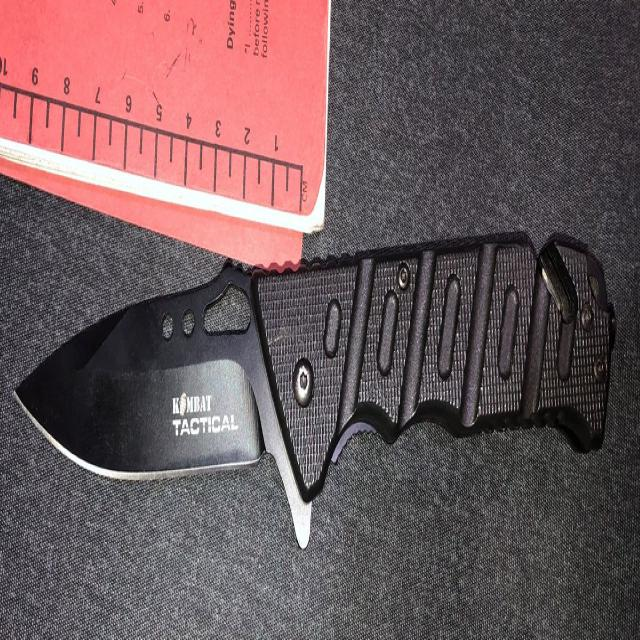Sharp-Object: (11, 237, 622, 553)
